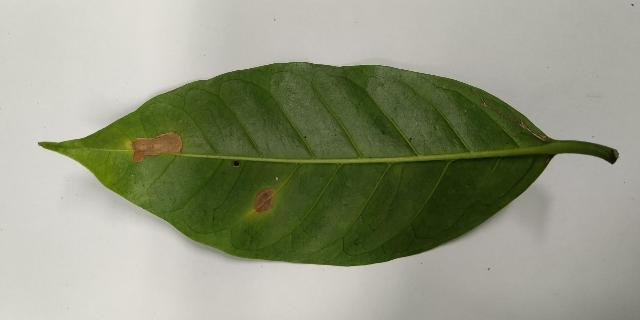cercospora: (127, 132, 182, 161), (252, 188, 274, 213), (232, 161, 241, 167)
